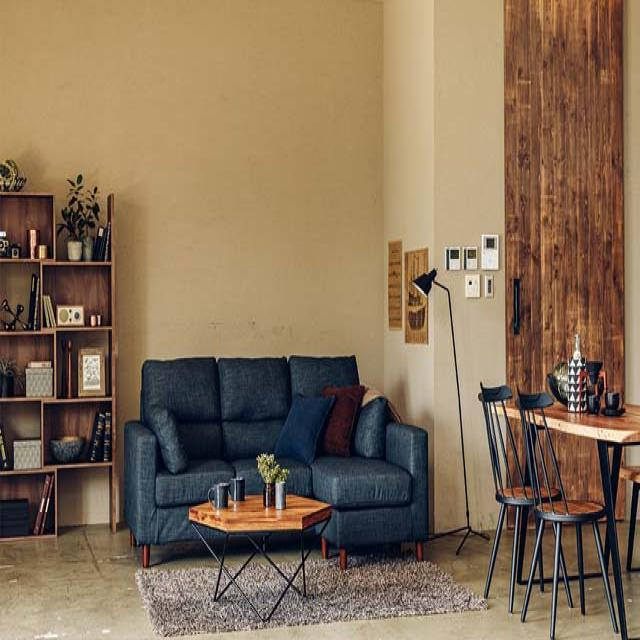vintage chair: (518, 380, 616, 640)
vintage desk: (179, 475, 337, 622)
vintage shelf: (0, 170, 121, 548)
vintage sofa: (119, 355, 436, 569)
